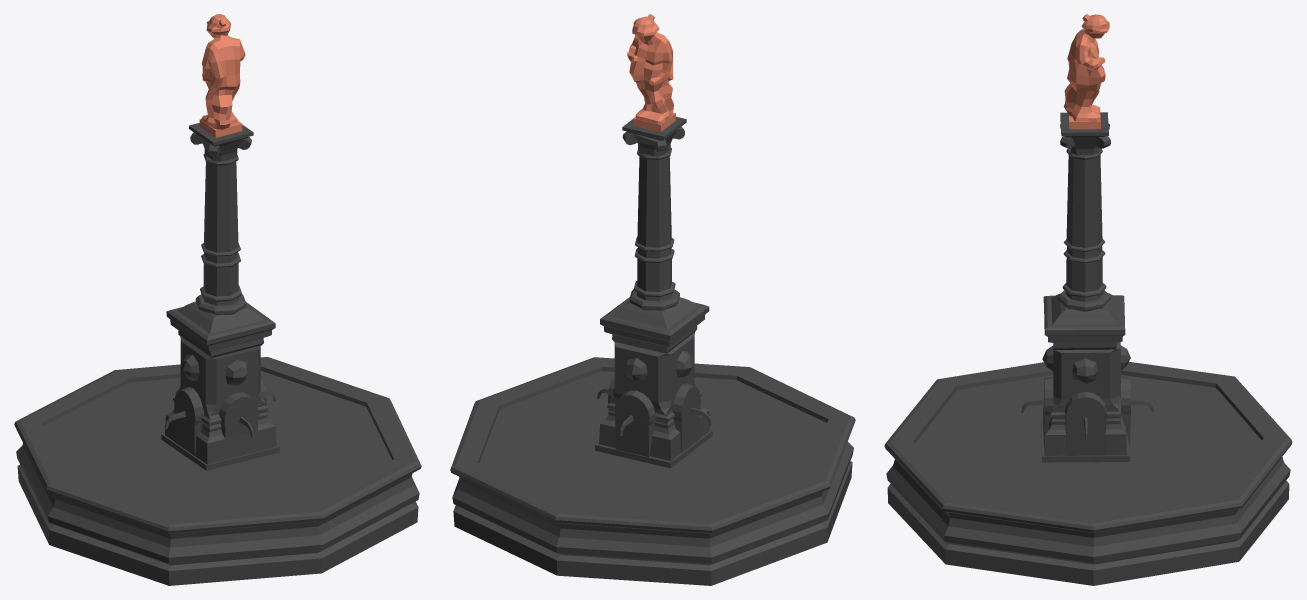
File: nouveau-lieu-3_v002.glb
3 renders of one model, left to right at view 1: azimuth 30°, elevation 25°; view 2: azimuth 150°, elevation 25°; view 3: azimuth 270°, elevation 25°, orthographic.
Visible parts, largest first — view 1: LIEU_nouveau-lieu-3_v002; view 2: LIEU_nouveau-lieu-3_v002; view 3: LIEU_nouveau-lieu-3_v002.
Boxes of the visible parts, x1,y1,x2,y2 form: LIEU_nouveau-lieu-3_v002: (14, 14, 421, 585); LIEU_nouveau-lieu-3_v002: (450, 14, 855, 585); LIEU_nouveau-lieu-3_v002: (884, 14, 1292, 585).
Size of the model in its own units: 6.47 by 8.54 by 6.47.
